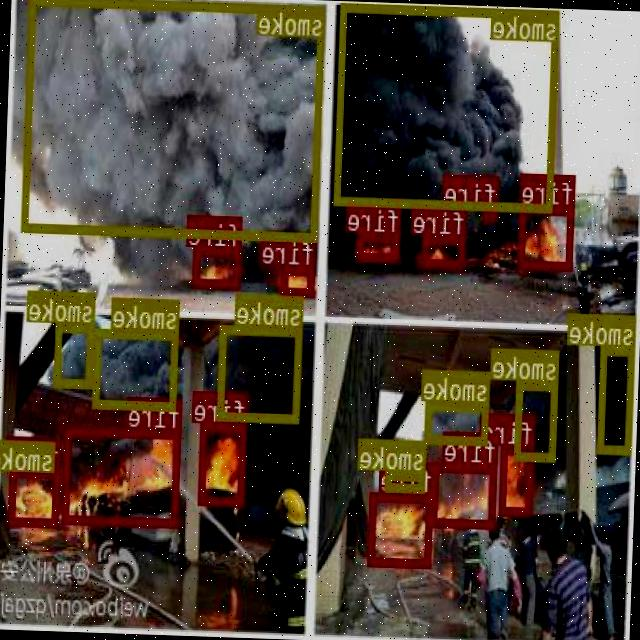fire: (64, 424, 182, 526), (368, 490, 435, 566), (432, 461, 497, 526), (199, 421, 247, 504), (520, 204, 576, 268), (9, 466, 61, 525), (501, 444, 534, 516), (194, 244, 242, 286), (422, 235, 467, 266), (358, 232, 401, 260), (282, 264, 316, 294), (485, 206, 497, 218)
smoke: (22, 0, 326, 241), (335, 2, 560, 210), (218, 322, 303, 420), (92, 326, 180, 409), (598, 344, 636, 452), (514, 380, 558, 460), (426, 400, 490, 444), (55, 321, 95, 386), (386, 469, 427, 490), (28, 438, 56, 466)
